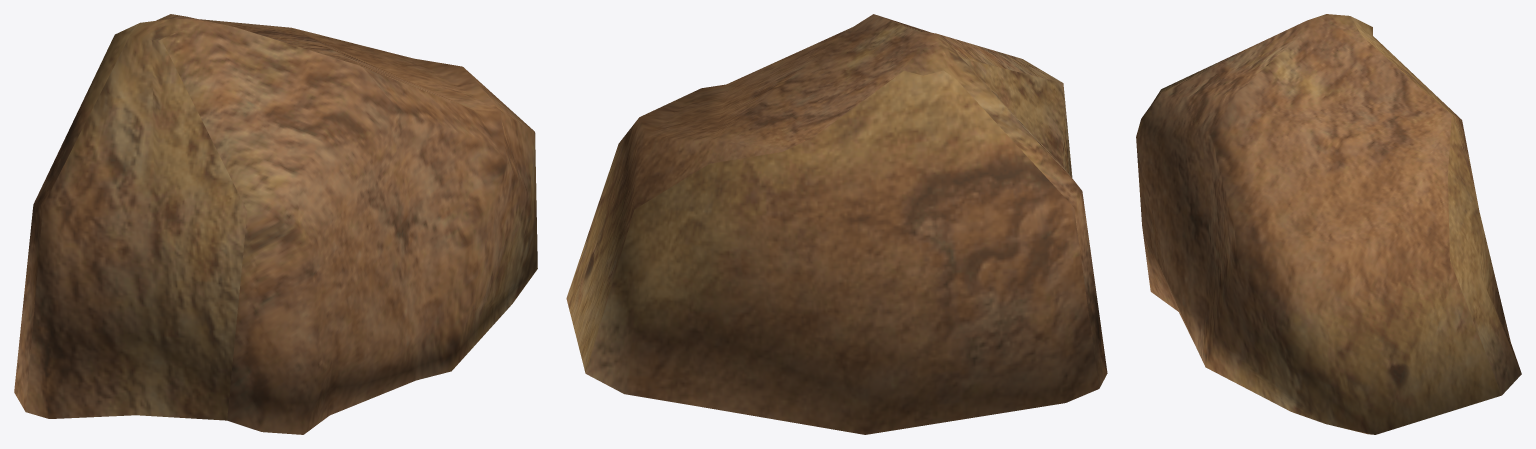
Rendered from sm_lubianshi.fbx.
The picture shows the model from 3 angles, left to right: view 1: azimuth 30°, elevation 25°; view 2: azimuth 150°, elevation 25°; view 3: azimuth 270°, elevation 25°; orthographic projection. The views are drawn at different scales.
Visible parts, largest first — view 1: sm_lubianshi; view 2: sm_lubianshi; view 3: sm_lubianshi.
Boxes of the visible parts, x1,y1,x2,y2 form: sm_lubianshi: (14,14,537,434); sm_lubianshi: (566,14,1107,434); sm_lubianshi: (1136,14,1521,434).
Bounding box in the file's own units: 1.41 × 0.885 × 1.1.
